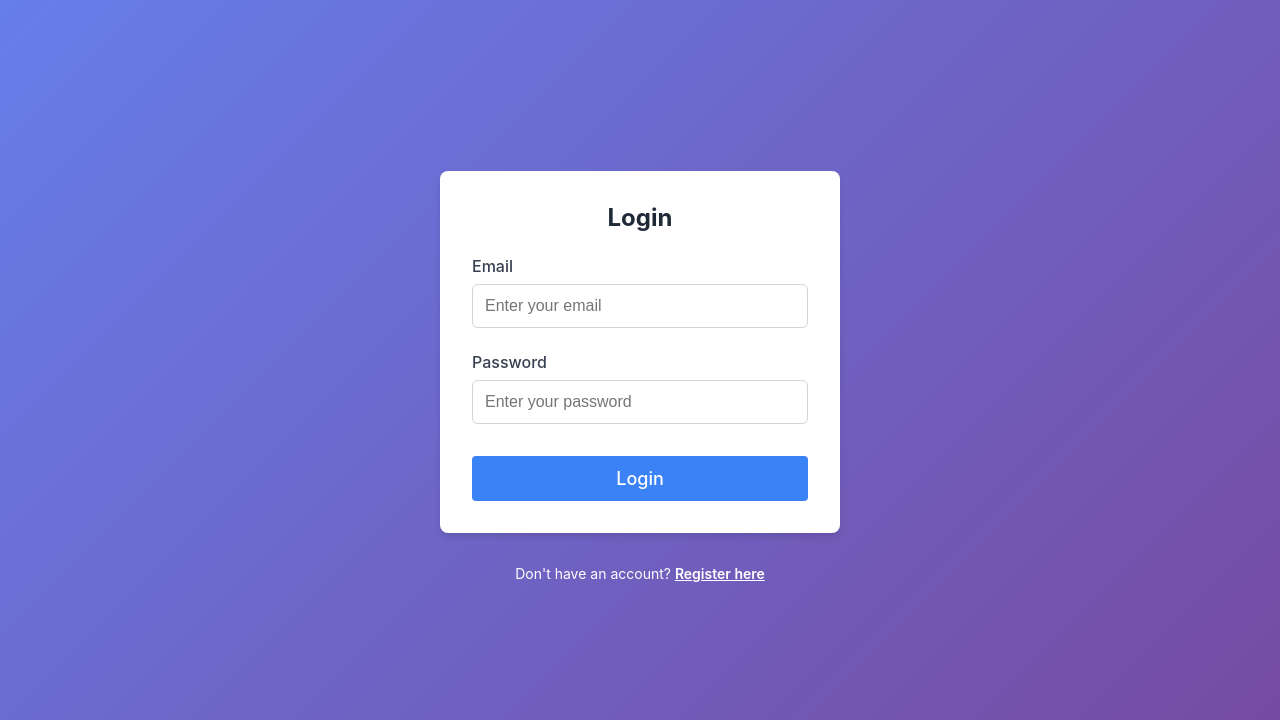
Test: Login Flow › should show error for short password
The width and height of the screenshot is (1280, 720).
Type "test@example.com" into the field named "email" at (640,306), box [472, 284, 808, 328]
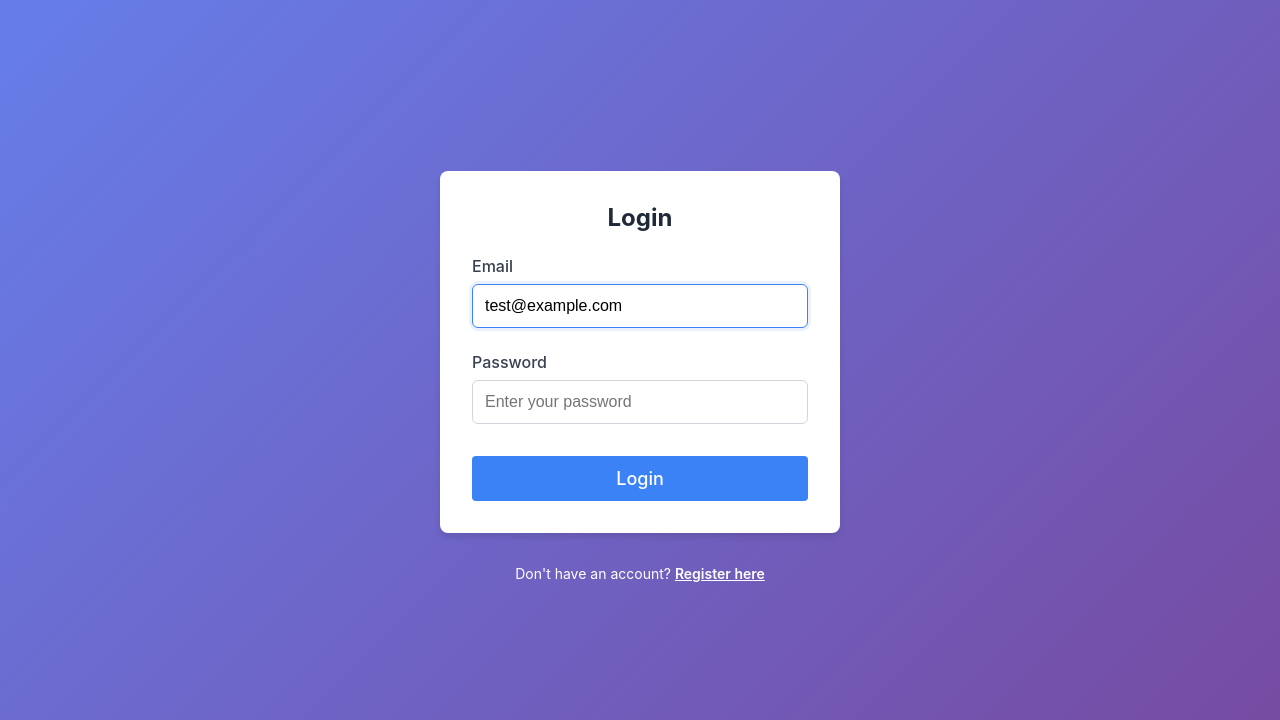
Type "12345" into the password field named "password" at (640,402), box [472, 380, 808, 424]
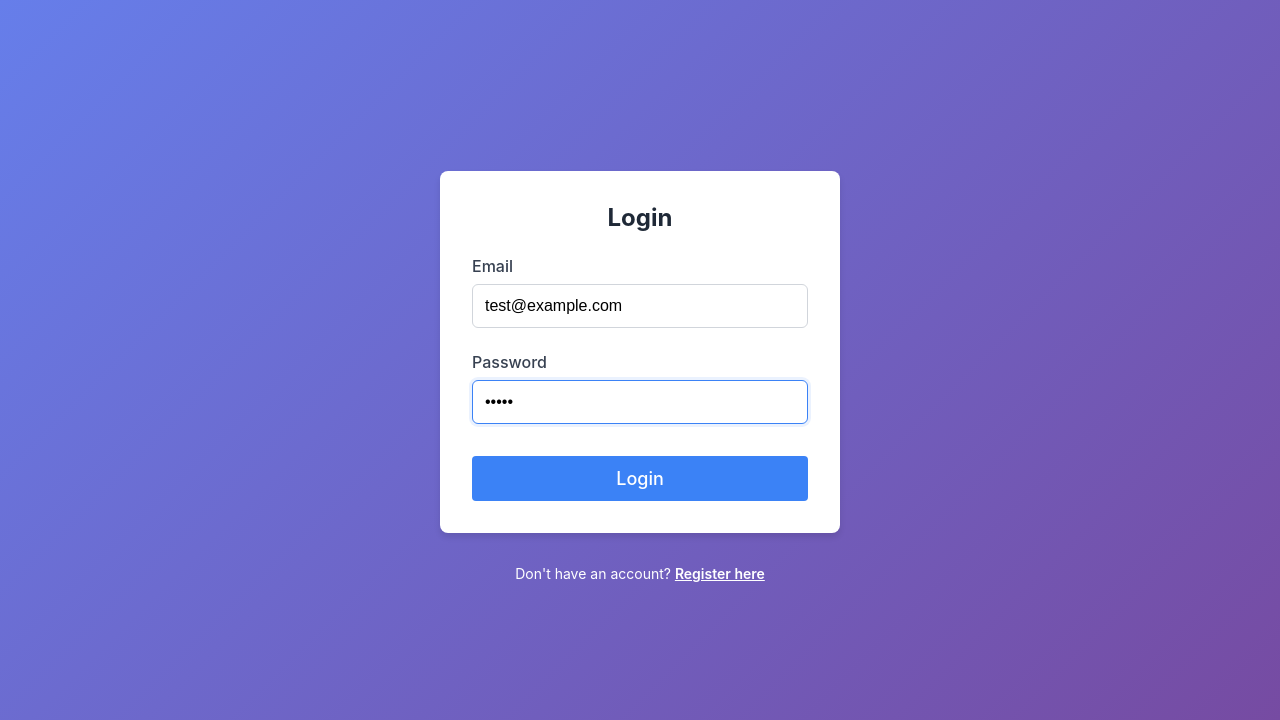
Click the submit button at (640,479), box [472, 456, 808, 501]
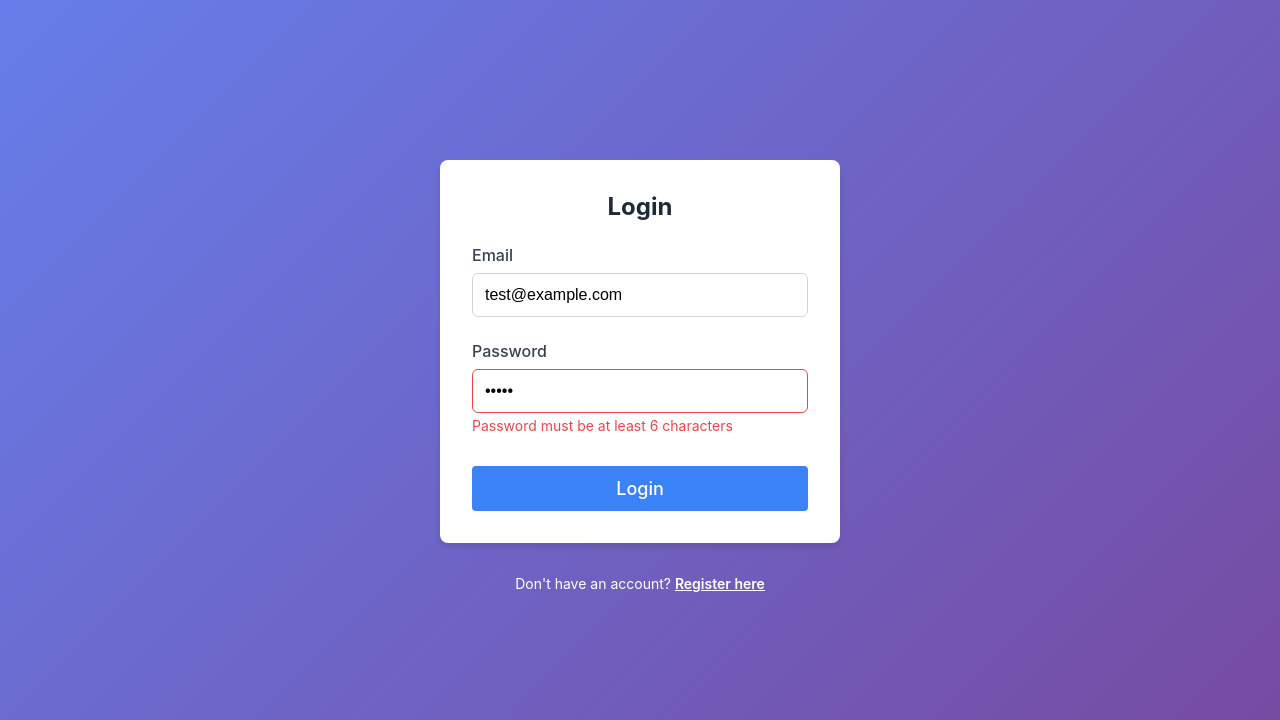
Check: the text "Password must be at least 6 characters" is shown, box [472, 417, 733, 434]
